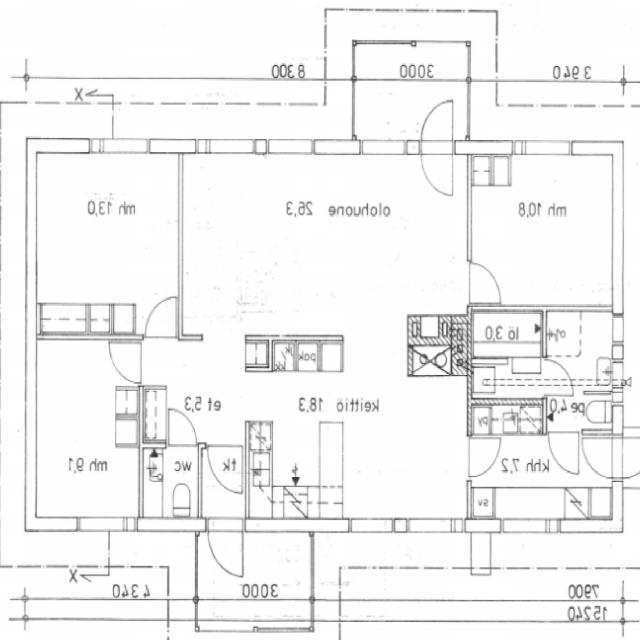door: (208, 518, 243, 575), (421, 141, 455, 198), (421, 98, 455, 154), (580, 436, 624, 478), (208, 442, 243, 492), (468, 262, 504, 303), (144, 294, 176, 340), (548, 429, 580, 474), (106, 342, 142, 382), (467, 438, 502, 476), (542, 359, 575, 395), (168, 406, 196, 447), (613, 436, 640, 478)
